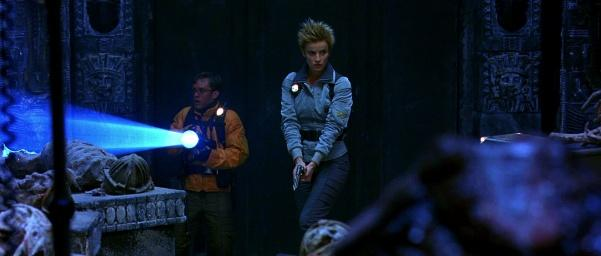Gun: (292, 165, 303, 191)
